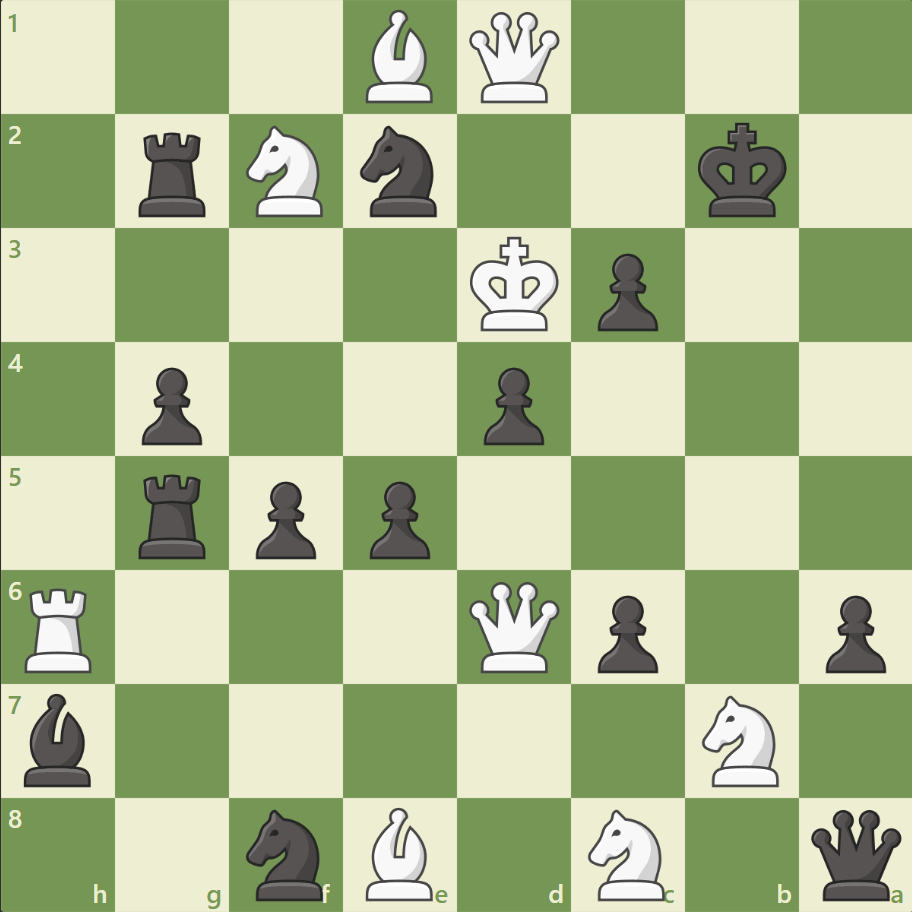B: (358, 801, 442, 904), (358, 6, 442, 109)
K: (465, 231, 565, 339)
N: (692, 688, 789, 791), (579, 802, 676, 904), (238, 121, 335, 223)
Q: (464, 576, 563, 676), (464, 9, 563, 108)
R: (19, 579, 102, 676)
b: (17, 687, 101, 790)
k: (692, 117, 792, 225)
n: (351, 121, 449, 223), (238, 802, 335, 904)
p: (247, 473, 322, 564), (474, 359, 549, 450), (133, 359, 208, 450), (815, 586, 889, 677), (588, 586, 662, 677), (361, 473, 435, 564), (588, 246, 662, 337)
q: (805, 804, 904, 903)
r: (133, 466, 215, 563), (133, 125, 215, 222)
